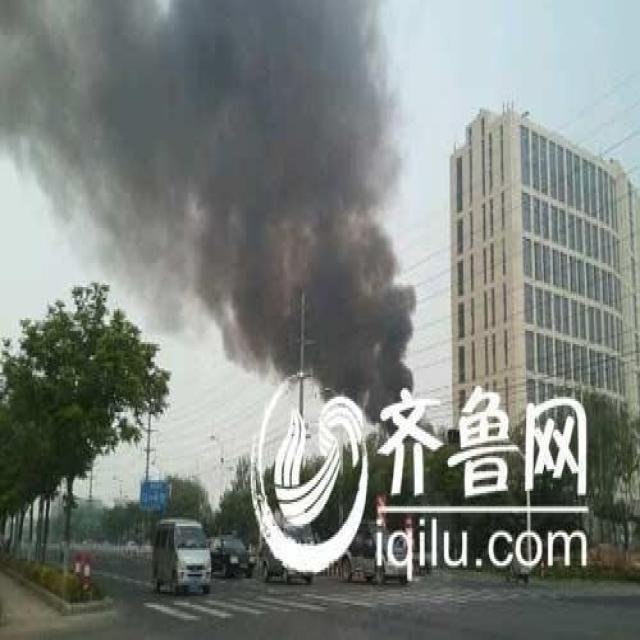Smoke: (1, 2, 418, 436)
